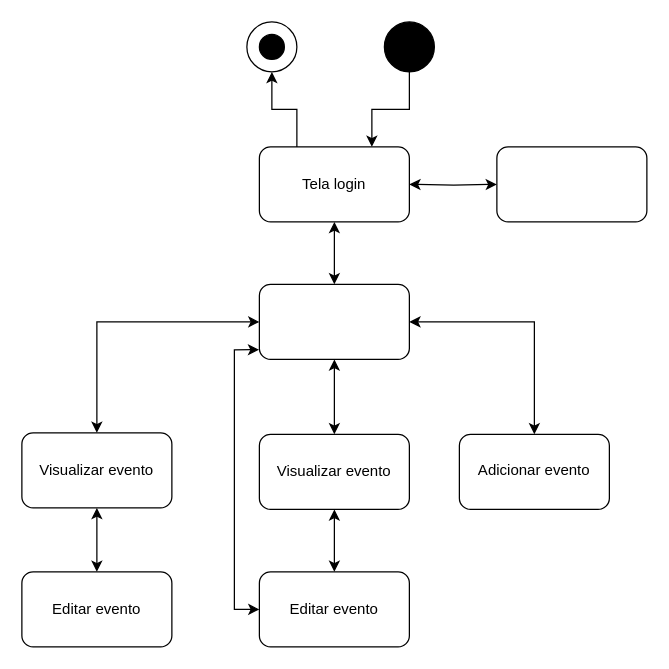
Image size: 669x669. Some labels were removed from this diagram. The shapes that lost their labels are listed below. From the top down, each one's box as (x1, y1, x2, y2) in pixels, then its label:
(496, 146, 647, 222): Tela de cadastro
(258, 283, 409, 359): Home: visualizar calendario e lista de eventos
